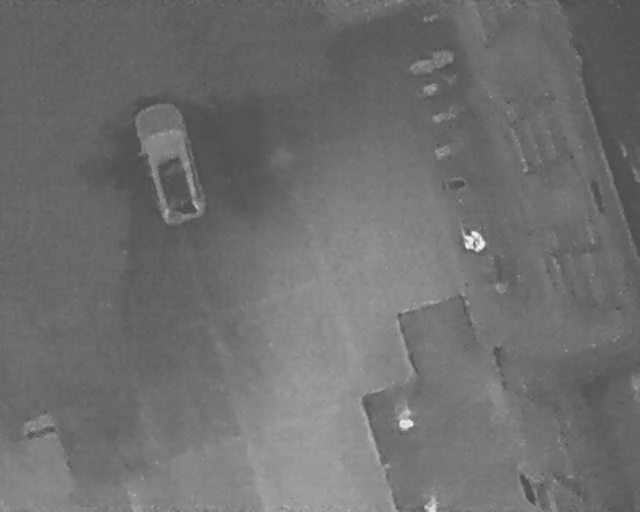Bicycle: (402, 44, 459, 80), (417, 68, 463, 100), (428, 101, 467, 127), (430, 137, 469, 163), (438, 173, 474, 194)
Car: (125, 92, 215, 232)
Person: (460, 228, 486, 253), (397, 409, 414, 432), (423, 496, 439, 510)
